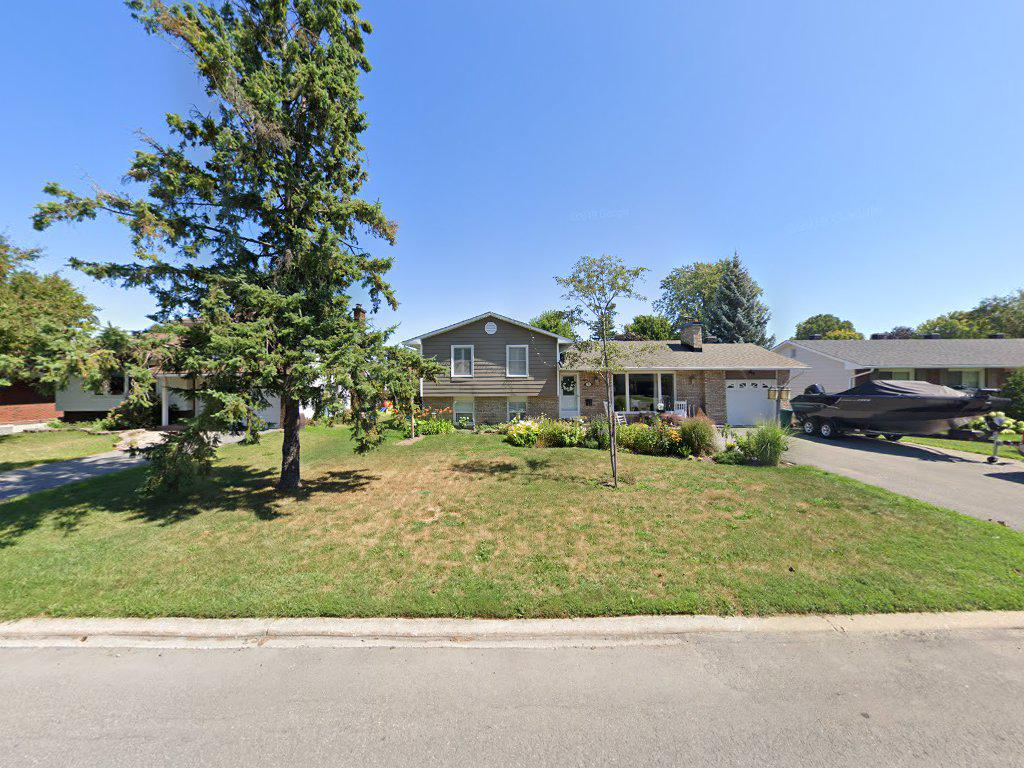trunk: (276, 392, 306, 507)
